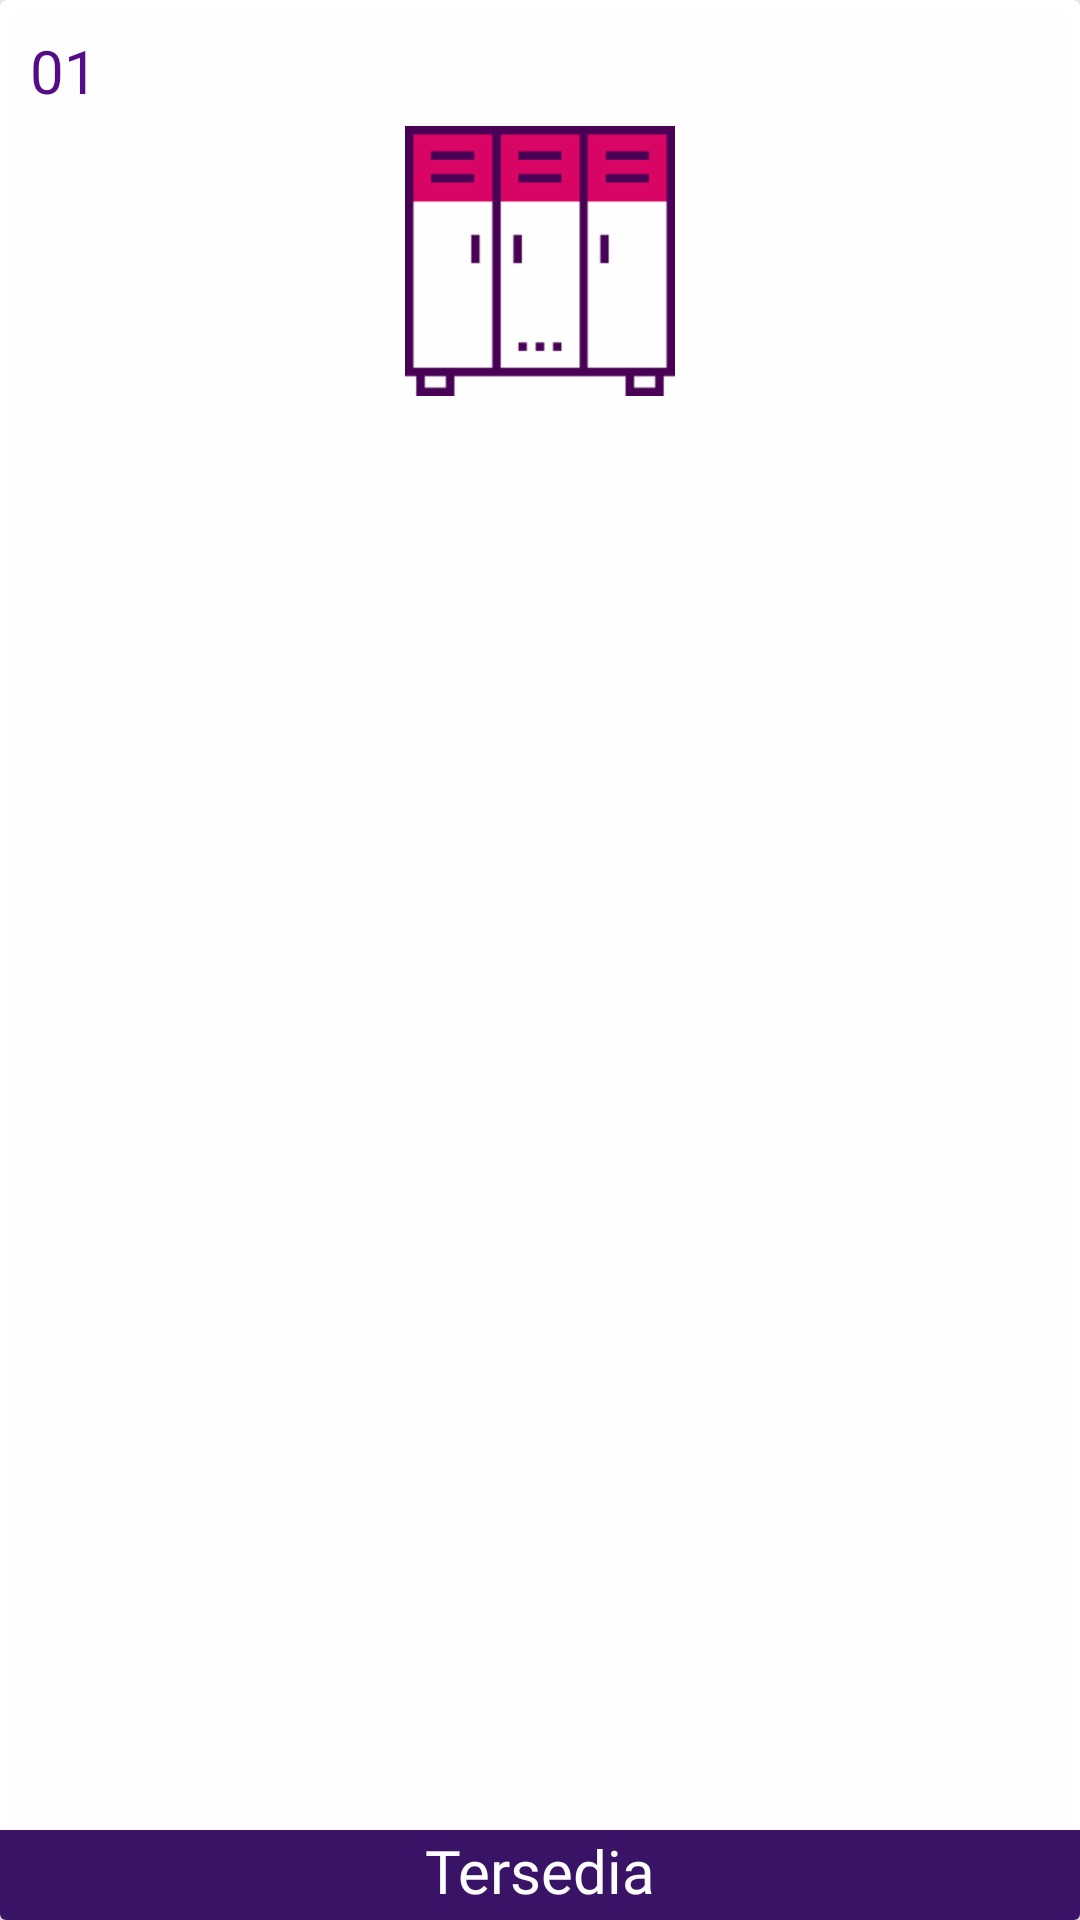

Icon bounding boxes for this 1080 × 1920 phone screenshot, format (x1, y1, x2, y2):
loker: (405, 126, 675, 396)
